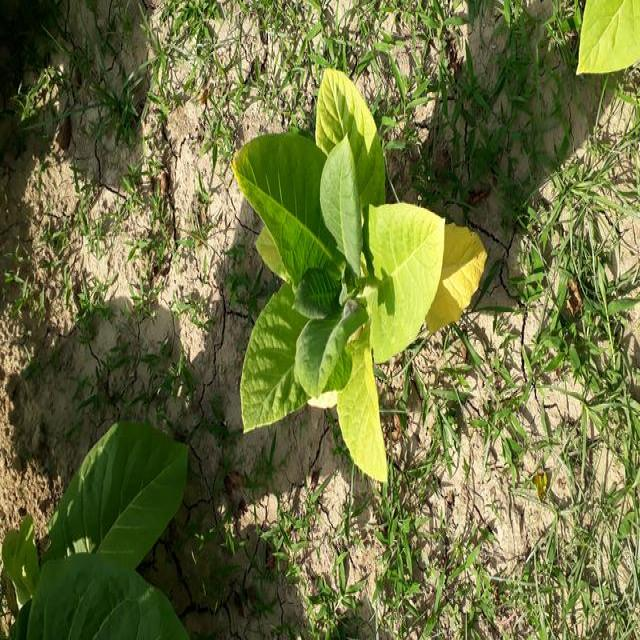crop: (229, 68, 487, 487), (1, 407, 193, 640), (582, 0, 640, 79)
